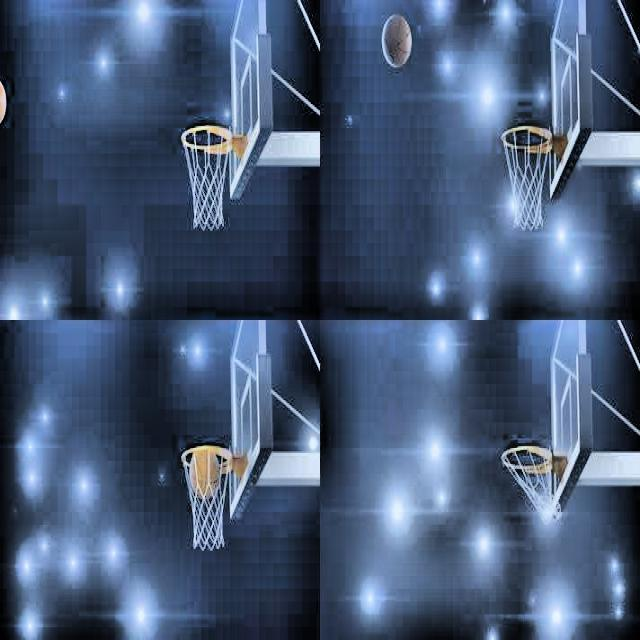rim: (502, 125, 552, 232), (181, 126, 232, 230), (180, 445, 229, 550)
